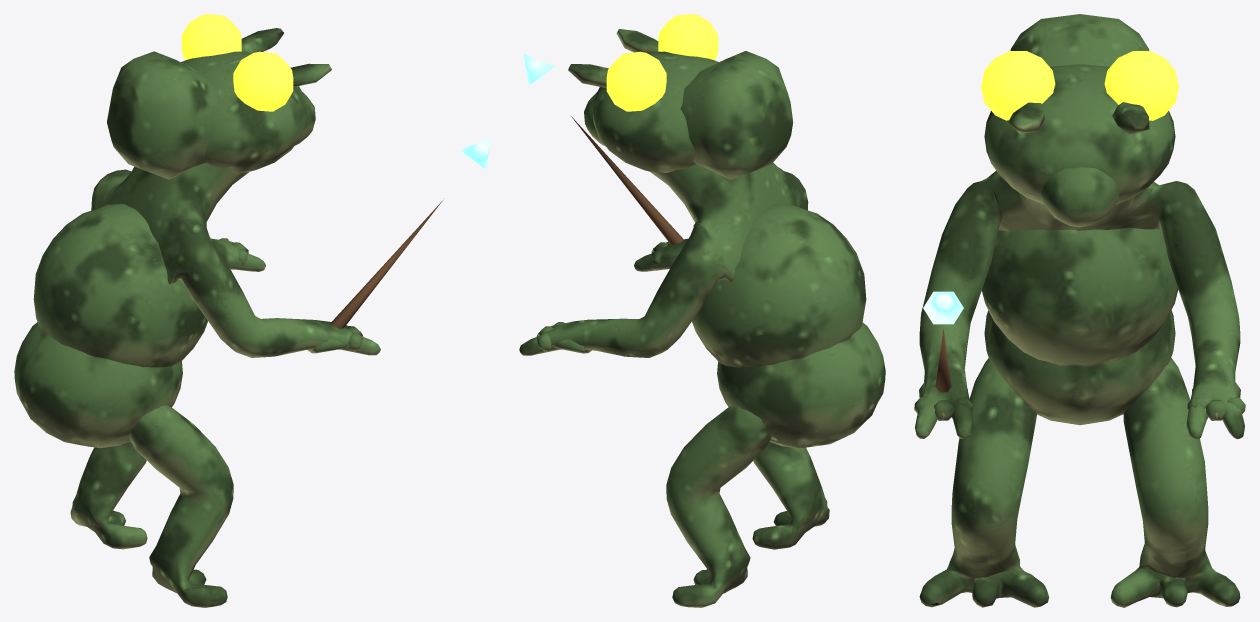
Rendered from loveland-frogman.glb.
3 renders of one model, left to right at view 1: azimuth 30°, elevation 25°; view 2: azimuth 150°, elevation 25°; view 3: azimuth 270°, elevation 25°, orthographic. The views are drawn at different scales.
Parts seen in each view (by area): view 1: loveland-frogman.001; view 2: loveland-frogman.001; view 3: loveland-frogman.001.
Part boxes in pixels (bbox=[...]): loveland-frogman.001: bbox=[14, 14, 490, 607]; loveland-frogman.001: bbox=[519, 14, 885, 607]; loveland-frogman.001: bbox=[914, 14, 1245, 607].
Bounding box in the file's own units: 0.825 × 0.976 × 0.486.
5 materials, 1 textured.
